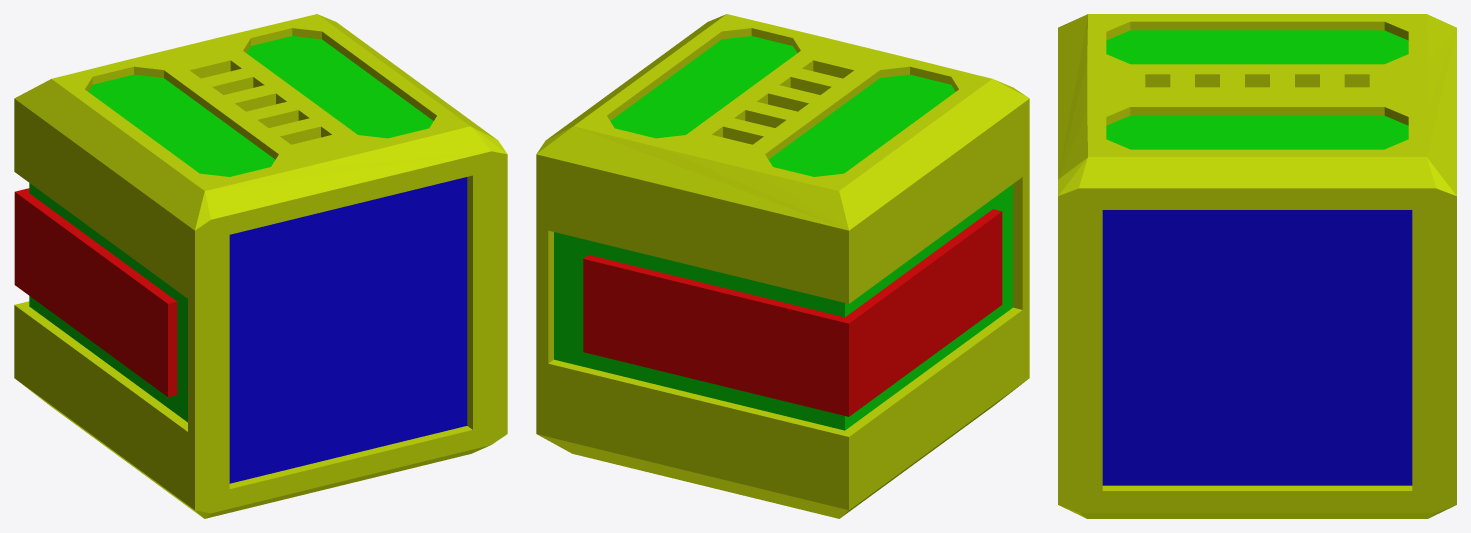
The model's file is 2 display box.fbx.
The picture shows the model from 3 angles, left to right: view 1: azimuth 30°, elevation 25°; view 2: azimuth 150°, elevation 25°; view 3: azimuth 270°, elevation 25°; orthographic projection. The views are drawn at different scales.
Visible parts, largest first — view 1: 2 display box; view 2: 2 display box; view 3: 2 display box.
Boxes of the visible parts, bbox=[...] form: 2 display box: bbox=[14, 14, 507, 518]; 2 display box: bbox=[536, 14, 1029, 518]; 2 display box: bbox=[1058, 14, 1456, 518].
Size of the model in its own units: 10 by 10 by 10.
